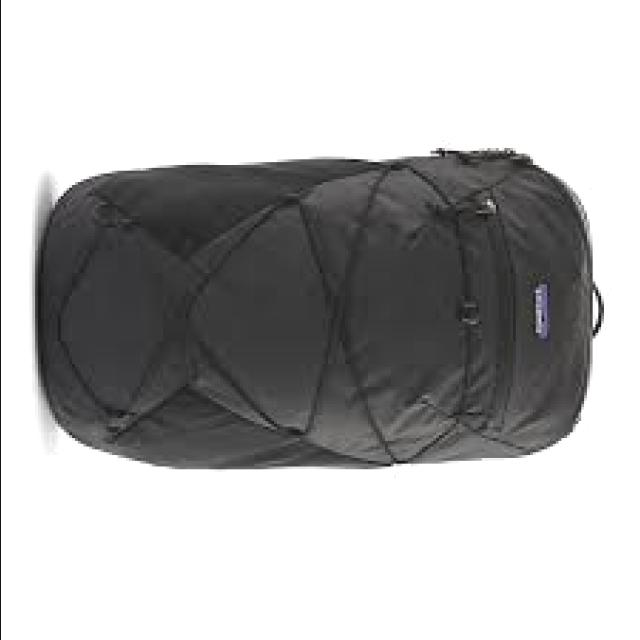backpack: (38, 146, 607, 470)
